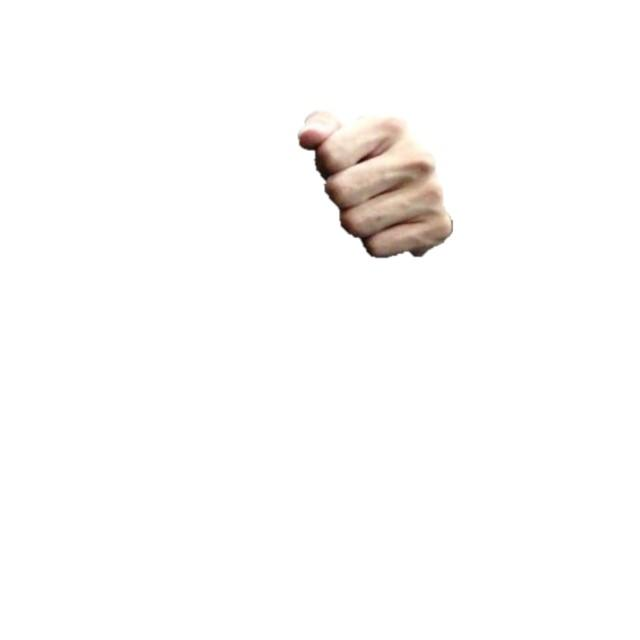gu-: (295, 108, 454, 258)
